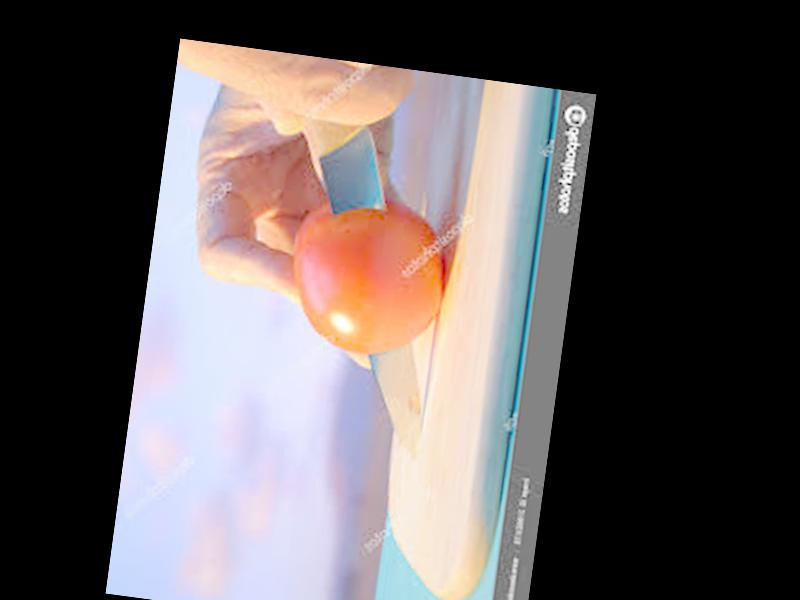Tomato: (283, 188, 457, 365)
